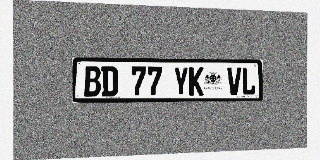7: (130, 66, 146, 96), (147, 67, 162, 96)
B: (84, 66, 101, 97)
D: (101, 66, 118, 96)
K: (189, 67, 204, 96)
L: (242, 67, 256, 95)
V: (227, 67, 241, 95)
Y: (173, 67, 188, 96)
